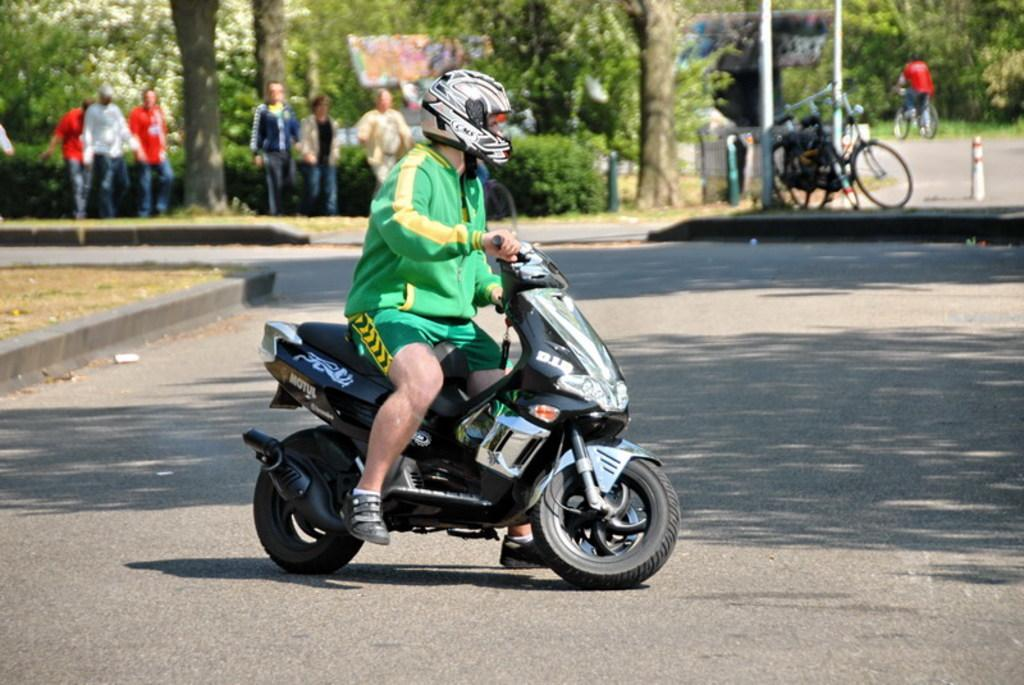helmet: (419, 69, 513, 172)
nohelmet: (310, 94, 330, 118), (266, 80, 285, 104), (375, 89, 393, 113), (98, 83, 115, 107), (142, 88, 159, 110)
